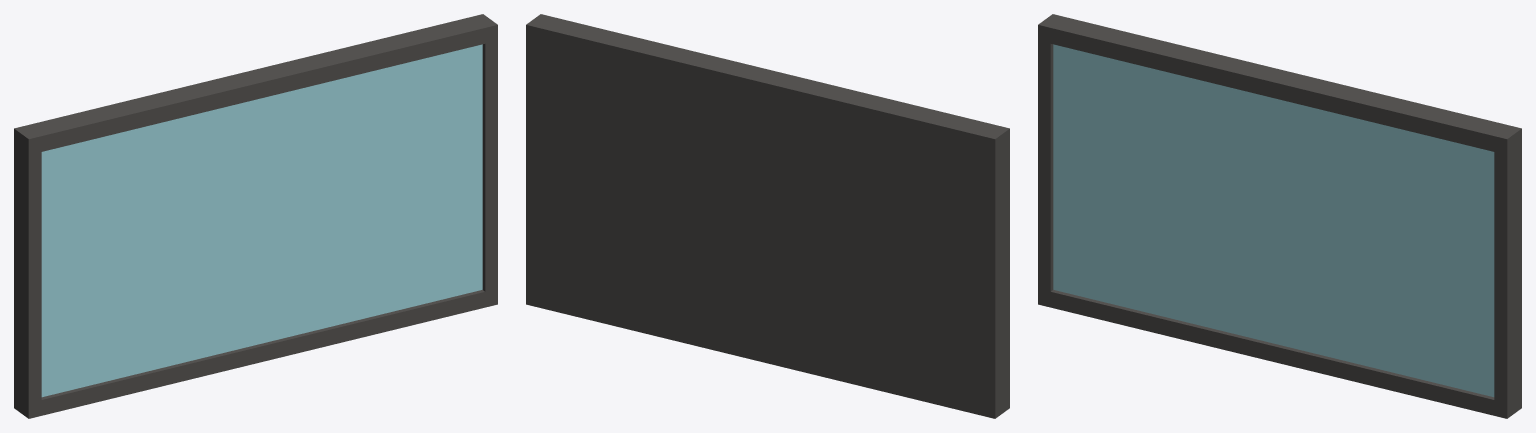
File: SM_GameArea_Screen_04.fbx
3 views of the same model, side by side, from view 1: azimuth 30°, elevation 25°; view 2: azimuth 150°, elevation 25°; view 3: azimuth 330°, elevation 25° (orthographic).
Visible parts, largest first — view 1: SM_GameArea_Screen_04; view 2: SM_GameArea_Screen_04; view 3: SM_GameArea_Screen_04.
Boxes of the visible parts, x1,y1,x2,y2 form: SM_GameArea_Screen_04: [14, 14, 497, 418]; SM_GameArea_Screen_04: [526, 14, 1009, 418]; SM_GameArea_Screen_04: [1038, 14, 1521, 418].
Size of the model in its own units: 10.48 by 5.97 by 0.5716.
Materials: 2 (1 with a texture image).
